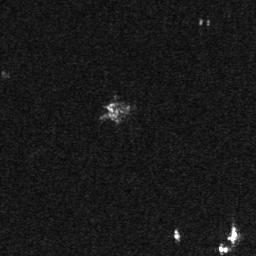ship: (228, 226, 238, 243), (173, 228, 181, 241)
